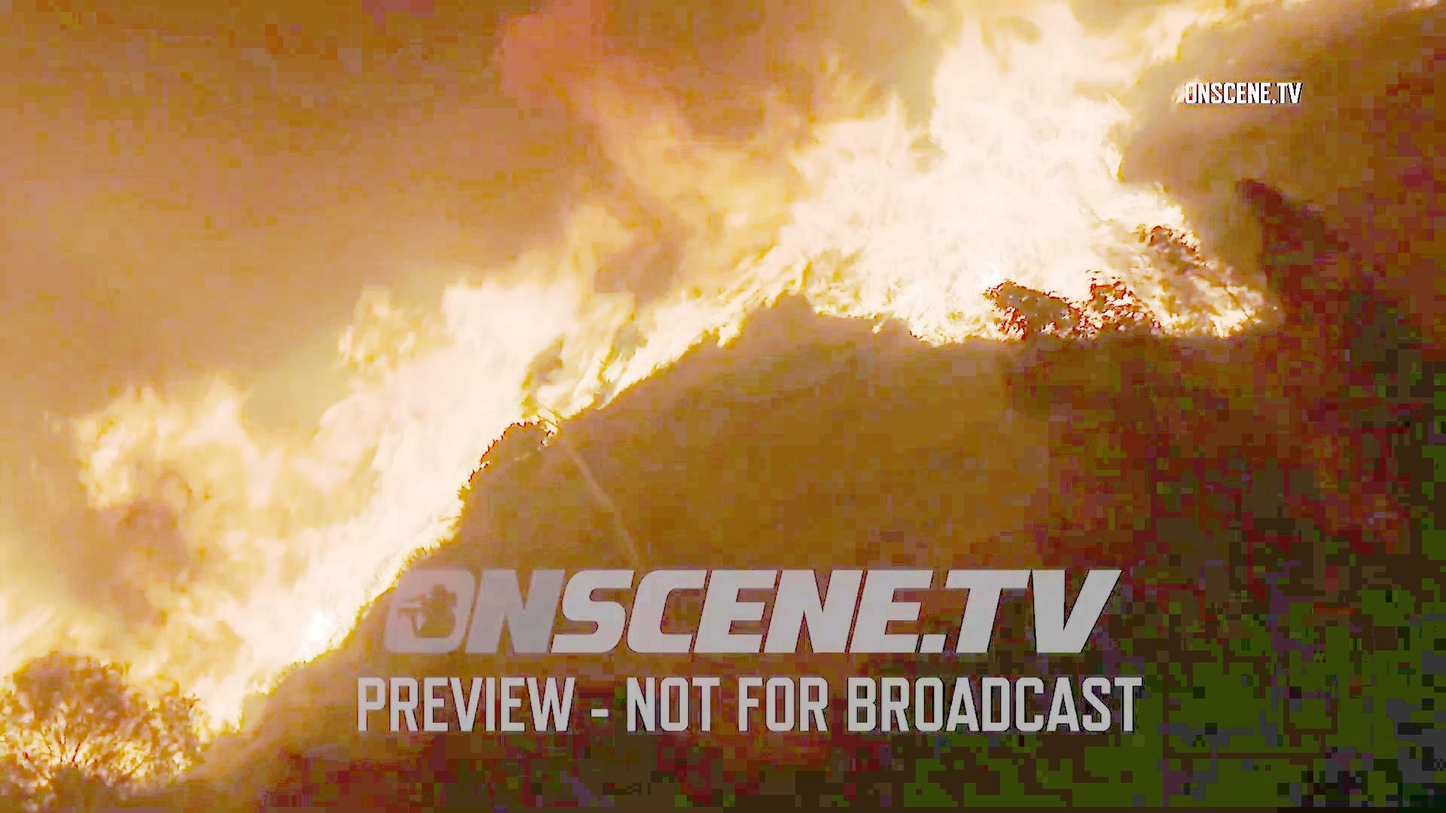fire: (0, 324, 433, 747), (785, 0, 1252, 326)
